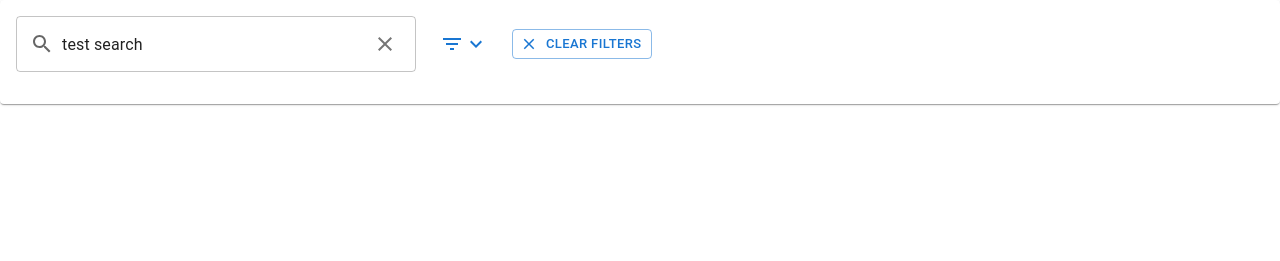
ResourceFilters › displays active filters summary when expanded
What coordinates should you click on to do the following:
click the button named "Advanced filters"
I would click on:
 (464, 44)
Its box is [432, 24, 496, 64].
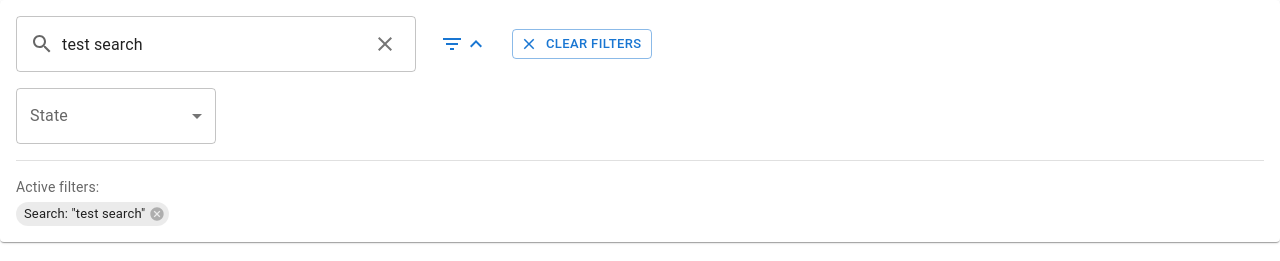
Now the text "Active filters:" is shown, box [16, 179, 99, 195]
Now the text "Search: \"test search\"" is shown, box [16, 204, 153, 224]
